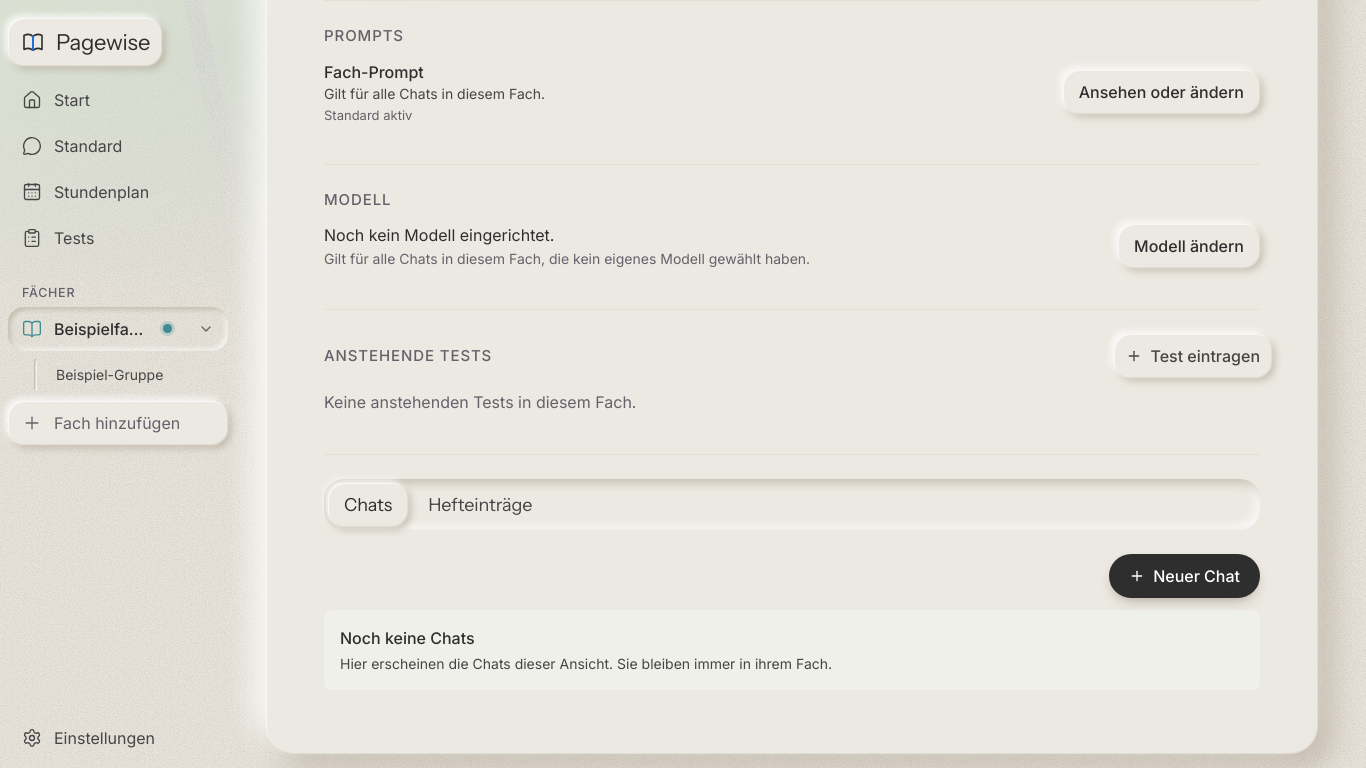
Test: Fachseite: Reiter-Panels haben dauerhafte, eindeutige IDs (M4-T038) › zeigt das gewählte Panel und versteckt die anderen per hidden statt sie zu entfernen
(page scrolled)
Click the tab "Hefteinträge" at (480, 505), box [412,483,548,527]
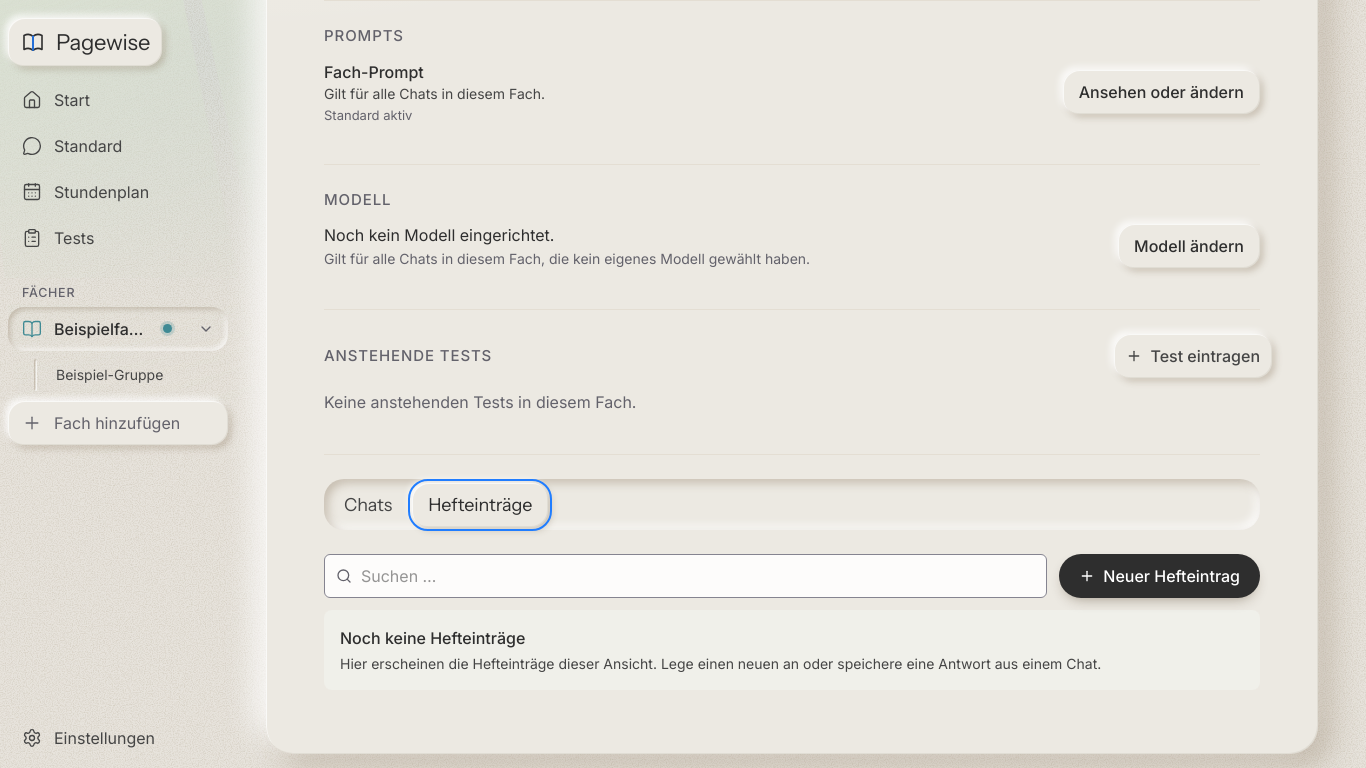
Result: the search field with placeholder "Suchen …" is shown at [324,554,1047,598]
